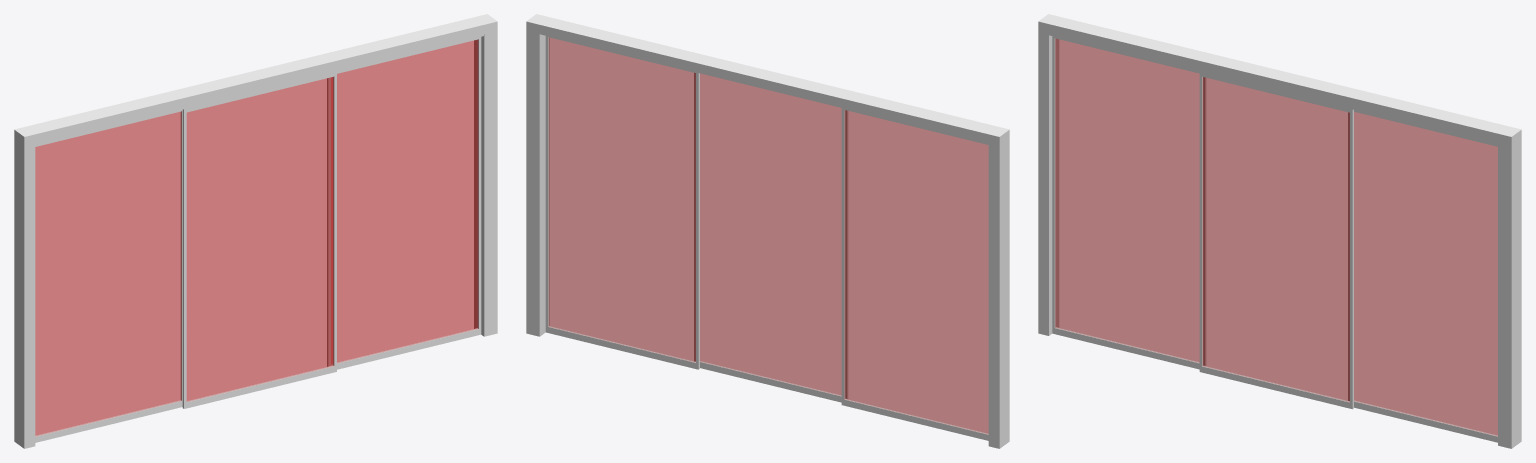
File: wall with windows set 10.FBX
3 renders of one model, left to right at view 1: azimuth 30°, elevation 25°; view 2: azimuth 150°, elevation 25°; view 3: azimuth 330°, elevation 25°, orthographic.
Visible parts, largest first — view 1: Glass Plane (×3), wall with windows set 10; view 2: Glass Plane (×3), wall with windows set 10; view 3: Glass Plane (×3), wall with windows set 10.
Boxes of the visible parts, x1,y1,x2,y2 form: Glass Plane (×3): (35, 37, 481, 442); wall with windows set 10: (14, 14, 497, 448); Glass Plane (×3): (545, 36, 988, 440); wall with windows set 10: (526, 14, 1009, 448); Glass Plane (×3): (1052, 36, 1497, 442); wall with windows set 10: (1038, 14, 1521, 448).
Bounding box in the file's own units: 4 × 0.15 × 2.52.
